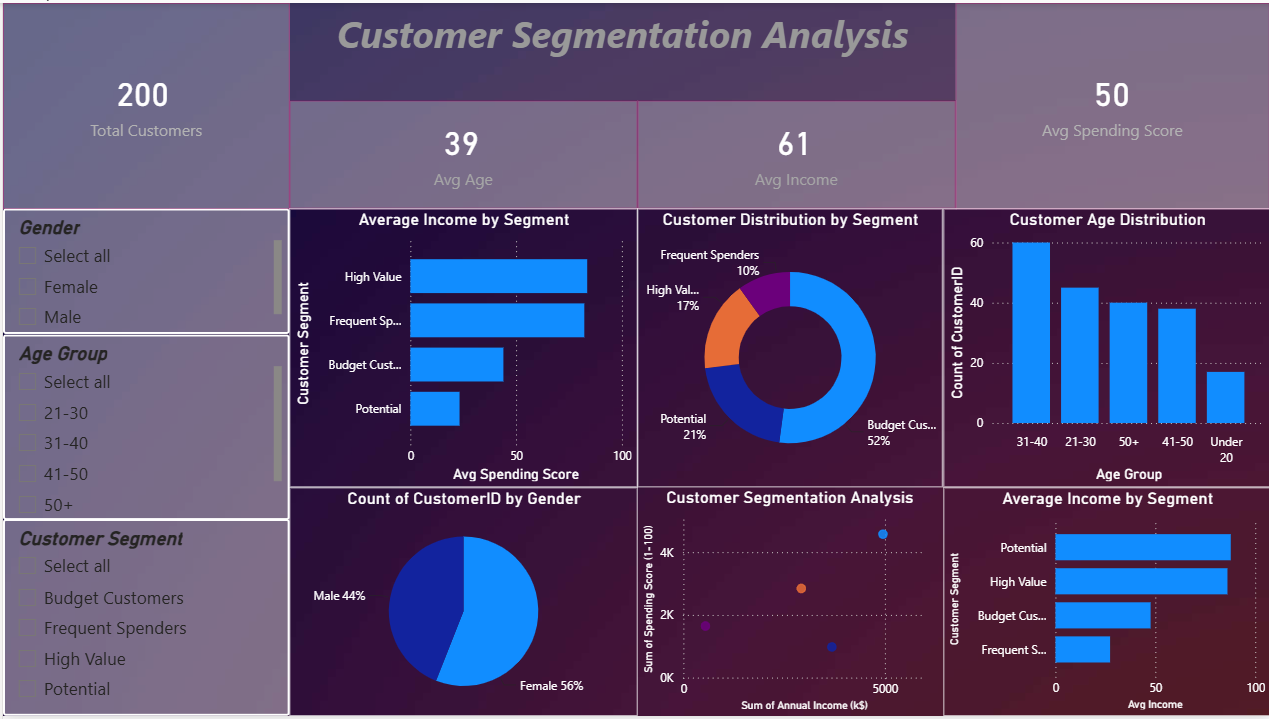

The dashboard page shown, as its layout file describes it:
{"tool":"powerbi","page":{"name":"Page 1","canvas":[1280,720],"ordinal":0},"visuals":[{"type":"advanceCardE03760C5AB684758B56AA29F9E6C257B","fields":{"mainMeasure":["Mall_Customers.Total Customers"]},"box":[0,0,289.1,207.9],"z":0},{"type":"advanceCardE03760C5AB684758B56AA29F9E6C257B","fields":{"mainMeasure":["Mall_Customers.Avg Age"]},"box":[289.1,98.3,351.5,109.6],"z":1},{"type":"advanceCardE03760C5AB684758B56AA29F9E6C257B","fields":{"mainMeasure":["Mall_Customers.Avg Income"]},"box":[640.6,98.3,321.3,109.6],"z":2},{"type":"advanceCardE03760C5AB684758B56AA29F9E6C257B","fields":{"mainMeasure":["Mall_Customers.Avg Spending Score"]},"box":[961.9,0,317.5,207.9],"z":3},{"type":"donutChart","title":"Customer Distribution by Segment","fields":{"Category":["Mall_Customers.Customer Segment"],"Y":["CountNonNull(Mall_Customers.CustomerID)"]},"box":[640.6,207.9,308,281.6],"z":4},{"type":"clusteredBarChart","title":"Average Income by Segment","fields":{"Y":["Mall_Customers.Avg Income"],"Category":["Mall_Customers.Customer Segment"]},"box":[948.7,489.5,330.7,230.6],"z":5},{"type":"clusteredBarChart","title":"Average Income by Segment","fields":{"Category":["Mall_Customers.Customer Segment"],"Y":["Mall_Customers.Avg Spending Score"]},"box":[289.1,207.9,351.5,281.6],"z":6},{"type":"pieChart","fields":{"Category":["Mall_Customers.Gender"],"Y":["CountNonNull(Mall_Customers.CustomerID)"]},"box":[289.1,489.5,351.5,230.6],"z":7},{"type":"columnChart","title":"Customer Age Distribution","fields":{"Category":["Mall_Customers.Age Group"],"Y":["CountNonNull(Mall_Customers.CustomerID)"]},"box":[948.7,207.9,330.7,281.6],"z":8},{"type":"scatterChart","title":"Customer Segmentation Analysis","fields":{"Series":["Mall_Customers.Customer Segment"],"Y":["Sum(Mall_Customers.Spending Score (1-100))"],"X":["Sum(Mall_Customers.Annual Income (k$))"]},"box":[640.6,489.5,308,230.6],"z":9},{"type":"slicer","fields":{"Values":["Mall_Customers.Gender"]},"box":[0,207.9,289.1,126.6],"z":10},{"type":"slicer","fields":{"Values":["Mall_Customers.Age Group"]},"box":[0,334.5,289.1,187.1],"z":11},{"type":"slicer","fields":{"Values":["Mall_Customers.Customer Segment"]},"box":[0,521.6,289.1,198.4],"z":12},{"type":"textbox","box":[289.1,0,672.8,98.3],"z":13}]}

Visuals, with their boxes in screenshot pixels (x1, y1, x2, y2), scaled from the page's 1280x720 canvas onto the 1269x719 screenshot:
advanceCardE03760C5AB684758B56AA29F9E6C257B - Mall_Customers.Total Customers: {"left": 0, "top": 0, "right": 287, "bottom": 208}
advanceCardE03760C5AB684758B56AA29F9E6C257B - Mall_Customers.Avg Age: {"left": 287, "top": 98, "right": 635, "bottom": 208}
advanceCardE03760C5AB684758B56AA29F9E6C257B - Mall_Customers.Avg Income: {"left": 635, "top": 98, "right": 954, "bottom": 208}
advanceCardE03760C5AB684758B56AA29F9E6C257B - Mall_Customers.Avg Spending Score: {"left": 954, "top": 0, "right": 1268, "bottom": 208}
"Customer Distribution by Segment" donutChart: {"left": 635, "top": 208, "right": 940, "bottom": 489}
"Average Income by Segment" clusteredBarChart: {"left": 941, "top": 489, "right": 1268, "bottom": 718}
"Average Income by Segment" clusteredBarChart: {"left": 287, "top": 208, "right": 635, "bottom": 489}
pieChart - Mall_Customers.Gender x CountNonNull(Mall_Customers.CustomerID): {"left": 287, "top": 489, "right": 635, "bottom": 718}
"Customer Age Distribution" columnChart: {"left": 941, "top": 208, "right": 1268, "bottom": 489}
"Customer Segmentation Analysis" scatterChart: {"left": 635, "top": 489, "right": 940, "bottom": 718}
slicer - Mall_Customers.Gender: {"left": 0, "top": 208, "right": 287, "bottom": 334}
slicer - Mall_Customers.Age Group: {"left": 0, "top": 334, "right": 287, "bottom": 521}
slicer - Mall_Customers.Customer Segment: {"left": 0, "top": 521, "right": 287, "bottom": 718}
textbox: {"left": 287, "top": 0, "right": 954, "bottom": 98}
